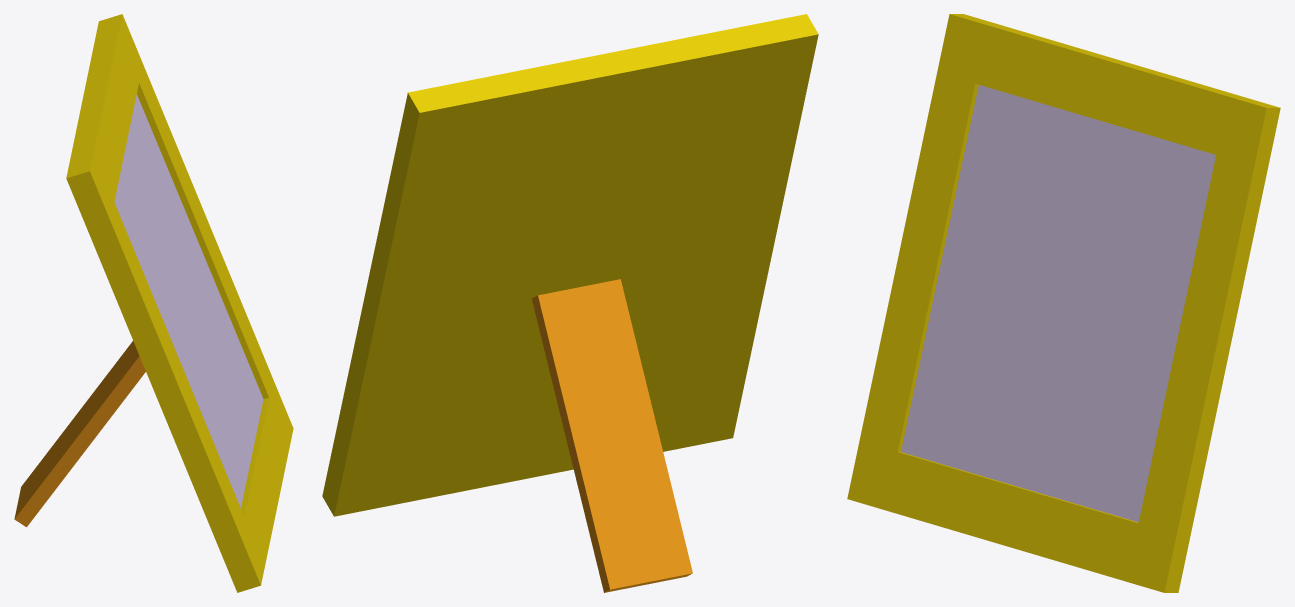
File: photoframe.glb
3 views of the same model, side by side, from view 1: azimuth 30°, elevation 25°; view 2: azimuth 150°, elevation 25°; view 3: azimuth 270°, elevation 25° (orthographic). The views are drawn at different scales.
Parts seen in each view (by area): view 1: Cube.003, photo, Cube 2.001; view 2: Cube.003, Cube 2.001; view 3: photo, Cube.003.
Boxes of the visible parts, bbox=[...] form: Cube.003: bbox=[66, 14, 293, 592]; photo: bbox=[114, 94, 263, 507]; Cube 2.001: bbox=[14, 341, 145, 527]; Cube.003: bbox=[322, 14, 818, 516]; Cube 2.001: bbox=[532, 279, 692, 592]; photo: bbox=[901, 85, 1215, 522]; Cube.003: bbox=[847, 14, 1280, 592].
Bounding box in the file's own units: 0.7587 × 0.9426 × 0.8471.
